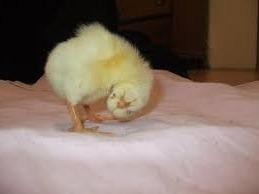AbNormal: (33, 17, 152, 133)
